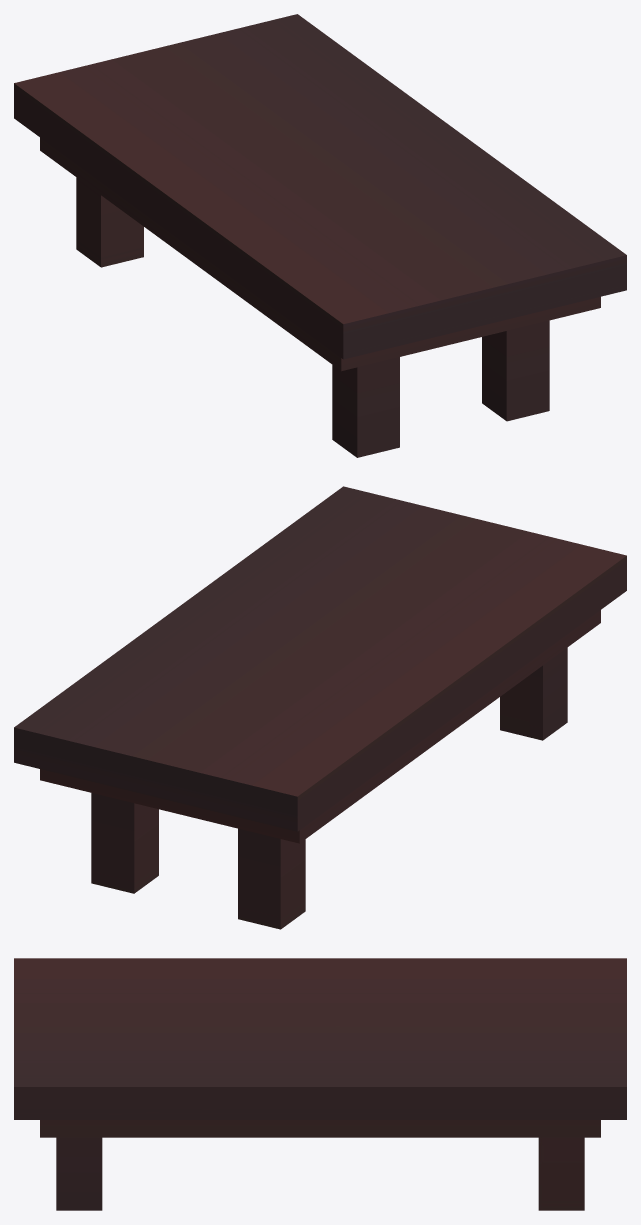
Rendered from mesitacontextura.fbx.
The picture shows the model from 3 angles, top to bottom: view 1: azimuth 30°, elevation 25°; view 2: azimuth 150°, elevation 25°; view 3: azimuth 270°, elevation 25°; orthographic projection. The views are drawn at different scales.
Visible parts, largest first — view 1: pCube7; view 2: pCube7; view 3: pCube7.
Boxes of the visible parts, <box> form: pCube7: <box>14,14,626,457</box>; pCube7: <box>14,486,626,929</box>; pCube7: <box>14,958,626,1210</box>.
Bounding box in the file's own units: 54.65 × 29.33 × 110.
Materials: 1 (1 with a texture image).
